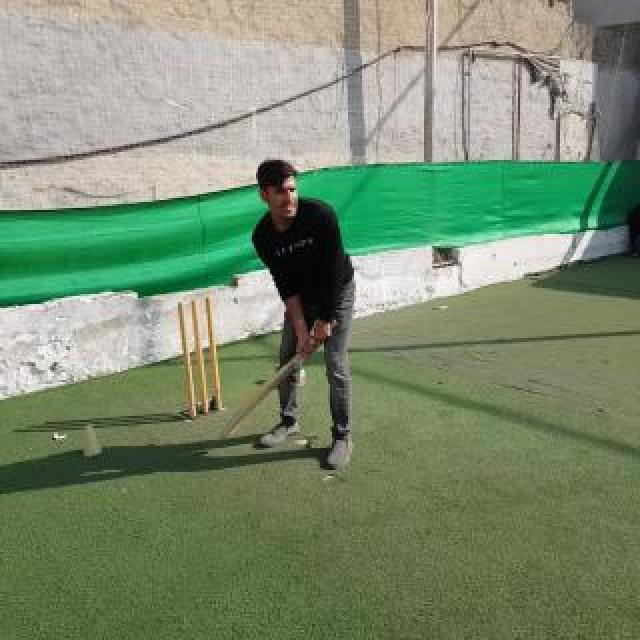bat: (220, 320, 338, 438)
